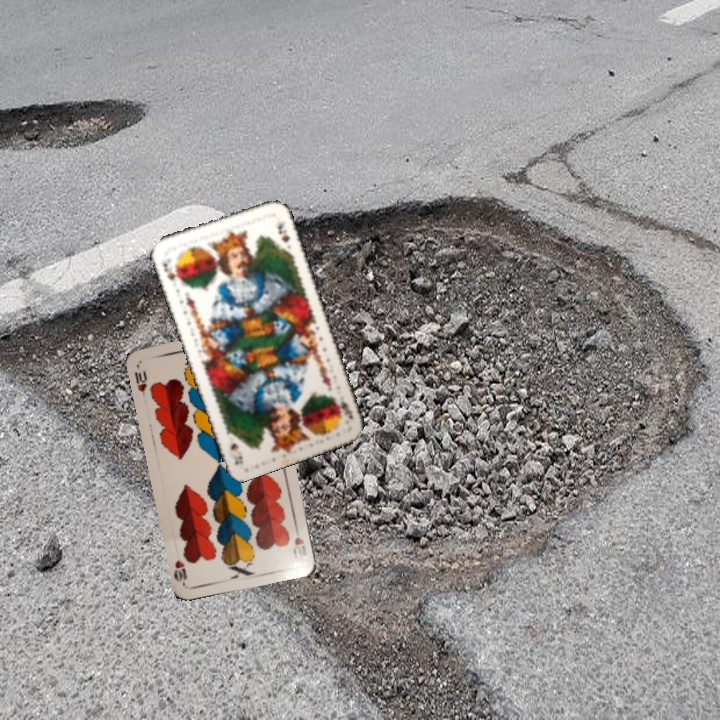H10: (130, 366, 150, 403), (290, 522, 309, 560)
SK: (159, 259, 184, 287), (334, 392, 356, 422)
